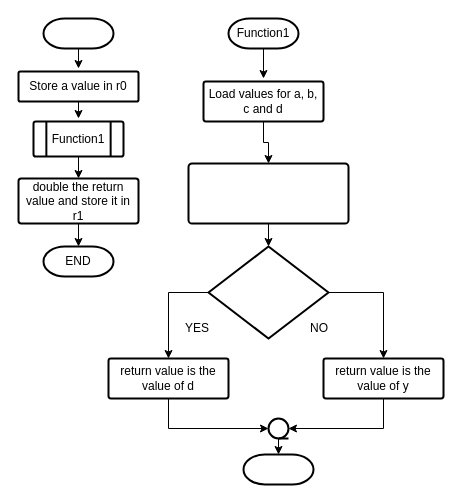
The diagram is 461 pixels wide and 502 high, and some of its shapes have lost their labels. The box of each missing label's shape, as (x1, y1, x2, y2) in pixels:
is the value of y> value d?: (207, 245, 329, 339)
perform calculations: y = a × x 2 + b × x + c: (187, 162, 349, 224)
return: (242, 453, 314, 485)
START: (42, 17, 114, 49)
